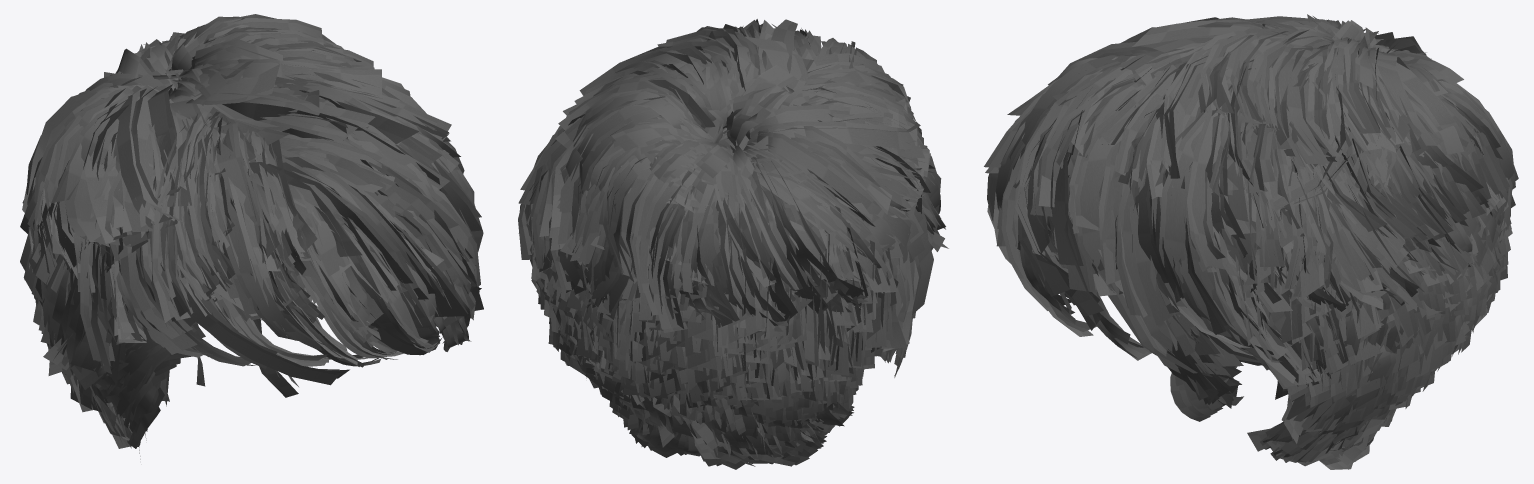
The model's file is Hair_S_Pixie_CardsMesh_Group0_LOD0.glb.
The picture shows the model from 3 angles, left to right: view 1: azimuth 30°, elevation 25°; view 2: azimuth 150°, elevation 25°; view 3: azimuth 270°, elevation 25°; orthographic projection. The views are drawn at different scales.
Visible parts, largest first — view 1: Hair_S_Pixie_CardsMesh_Group0_LOD0; view 2: Hair_S_Pixie_CardsMesh_Group0_LOD0; view 3: Hair_S_Pixie_CardsMesh_Group0_LOD0.
Part boxes in pixels (left/top/right/bottom): Hair_S_Pixie_CardsMesh_Group0_LOD0: left=20, top=14, right=483, bottom=459; Hair_S_Pixie_CardsMesh_Group0_LOD0: left=518, top=19, right=948, bottom=469; Hair_S_Pixie_CardsMesh_Group0_LOD0: left=984, top=14, right=1518, bottom=469.
Size of the model in its own units: 0.1951 by 0.1944 by 0.2266.
1 material, 1 textured.
